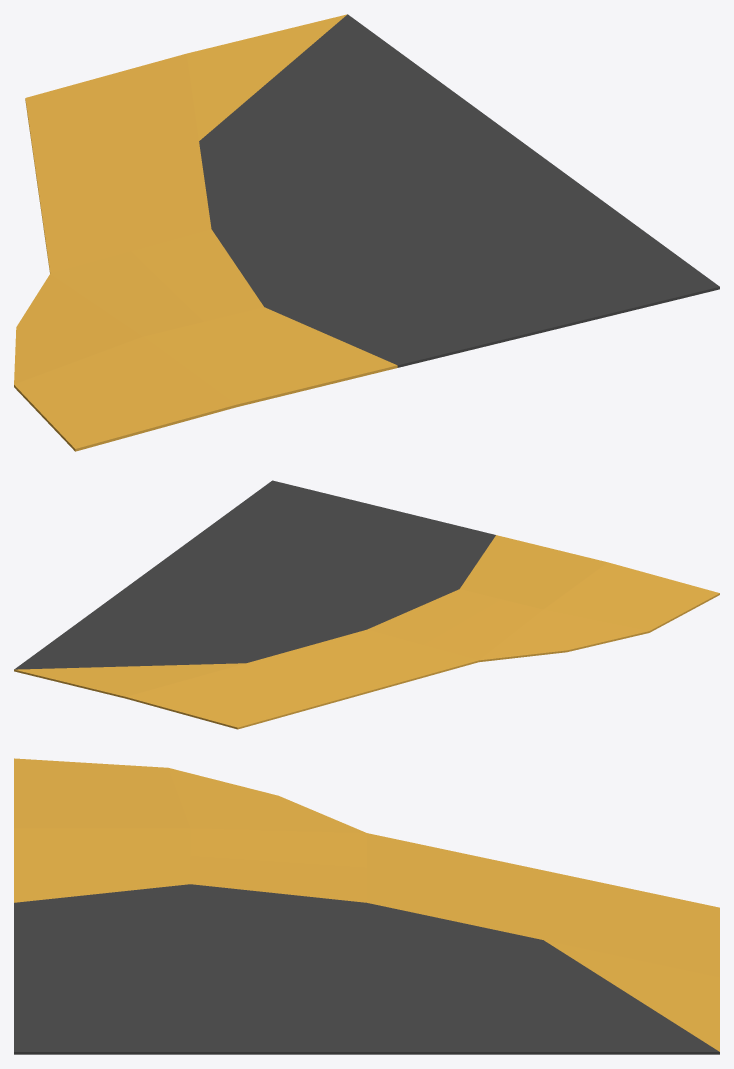
3 renders of one model, top to bottom at view 1: azimuth 30°, elevation 25°; view 2: azimuth 150°, elevation 25°; view 3: azimuth 270°, elevation 25°, orthographic. The views are drawn at different scales.
Parts seen in each view (by area): view 1: 01_street_base_plate-COL.016; view 2: 01_street_base_plate-COL.016; view 3: 01_street_base_plate-COL.016.
Boxes of the visible parts, x1=… form: 01_street_base_plate-COL.016: x1=14, y1=14, x2=719, y2=451; 01_street_base_plate-COL.016: x1=14, y1=480, x2=719, y2=729; 01_street_base_plate-COL.016: x1=14, y1=758, x2=719, y2=1054.
Size of the model in its own units: 256 by 2.92 by 256.
